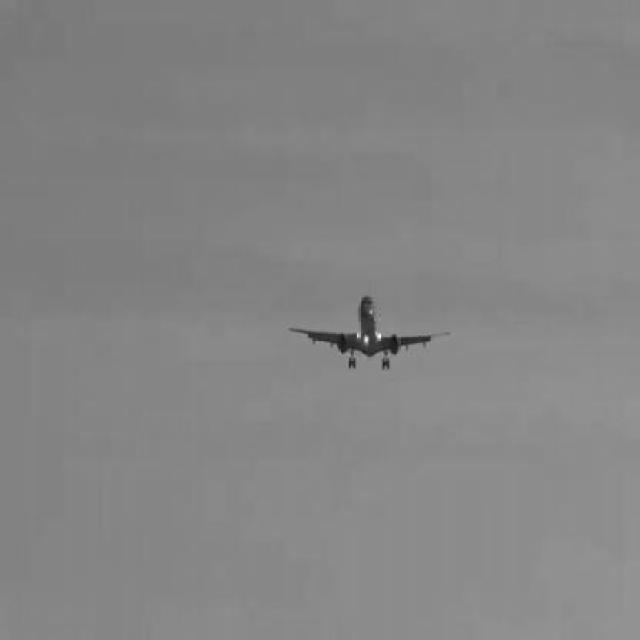aeroplane: (289, 294, 449, 368)
